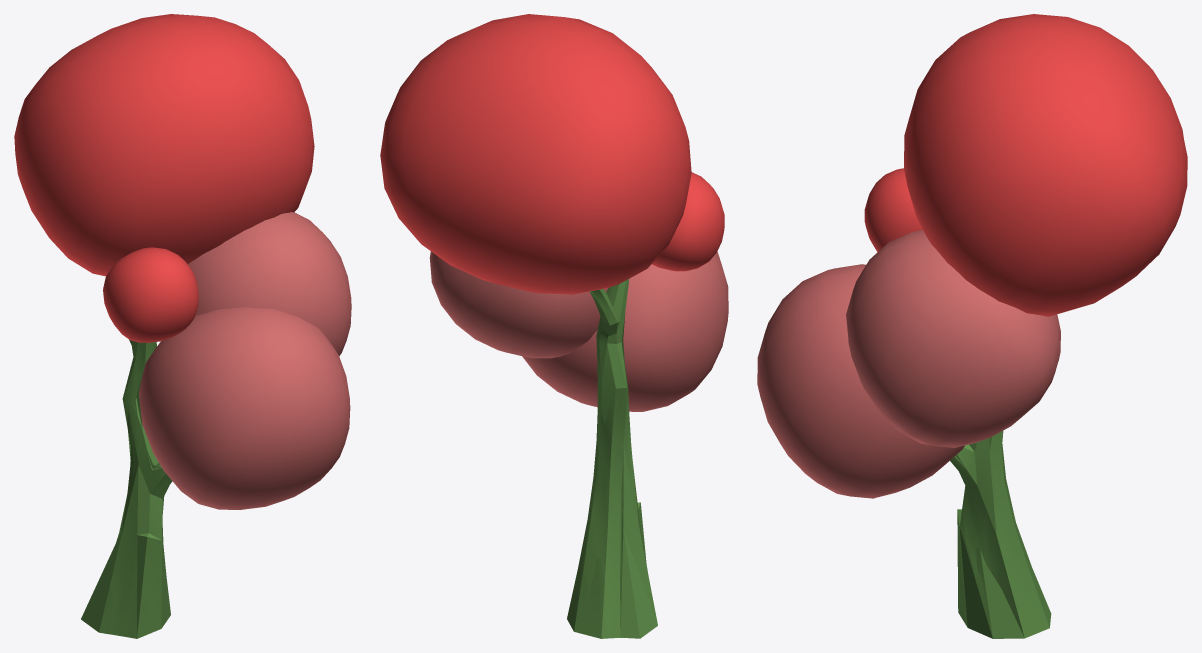
The model's file is tree5_smoother.fbx.
3 renders of one model, left to right at view 1: azimuth 30°, elevation 25°; view 2: azimuth 150°, elevation 25°; view 3: azimuth 270°, elevation 25°, orthographic. The views are drawn at different scales.
Visible parts, largest first — view 1: pPyramid2, pPyramid1, pPyramid3, tree_20, pPyramid4, tree_16; view 2: pPyramid2, pPyramid1, tree_20, pPyramid3, tree_16, pPyramid4; view 3: pPyramid2, pPyramid3, pPyramid1, tree_20, tree_16, pPyramid4.
Boxes of the visible parts, <box> form: pPyramid2: <box>14,14,314,276</box>; pPyramid1: <box>139,307,350,509</box>; pPyramid3: <box>188,212,351,356</box>; tree_20: <box>81,340,172,638</box>; pPyramid4: <box>103,247,198,342</box>; tree_16: <box>81,340,171,638</box>; pPyramid2: <box>380,14,691,294</box>; pPyramid1: <box>522,251,728,411</box>; tree_20: <box>567,284,657,638</box>; pPyramid3: <box>429,251,607,358</box>; tree_16: <box>567,279,657,638</box>; pPyramid4: <box>652,172,724,271</box>; pPyramid2: <box>904,14,1187,316</box>; pPyramid3: <box>846,230,1060,447</box>; pPyramid1: <box>757,264,964,498</box>; tree_20: <box>950,431,1048,638</box>; tree_16: <box>954,436,1051,638</box>; pPyramid4: <box>864,168,922,251</box>.
Bounding box in the file's own units: 526 × 1102 × 695.
